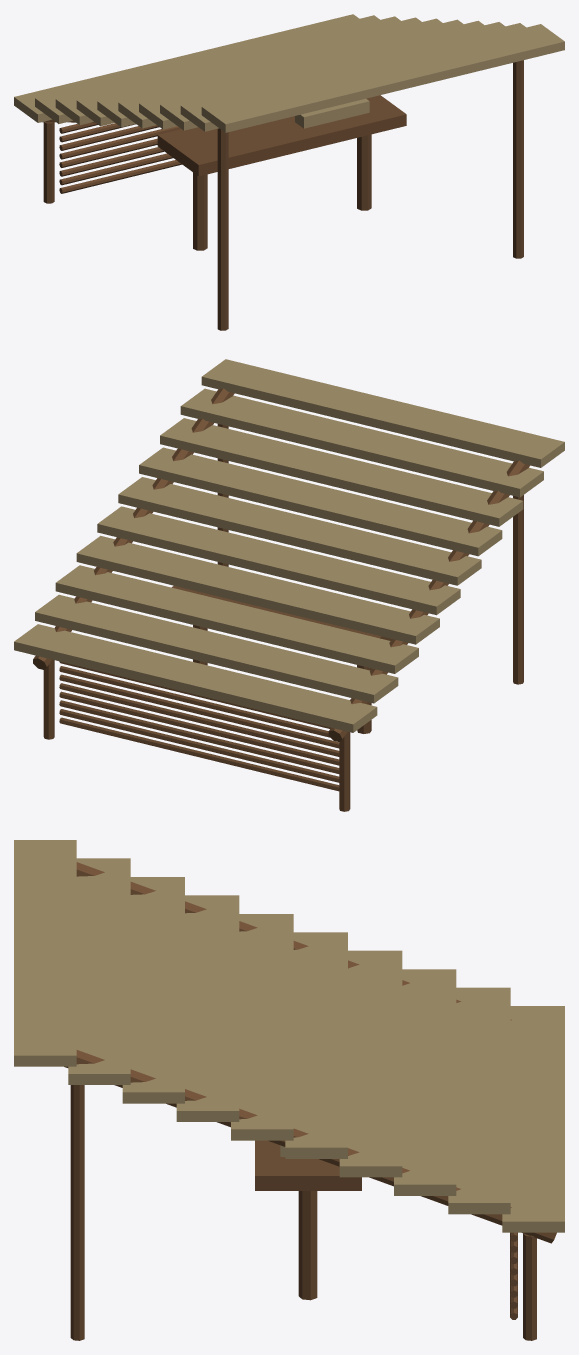
Rendered from covered_workshop.glb.
3 renders of one model, top to bottom at view 1: azimuth 30°, elevation 25°; view 2: azimuth 150°, elevation 25°; view 3: azimuth 270°, elevation 25°, orthographic. The views are drawn at different scales.
Visible parts, largest first — view 1: covered_workshop; view 2: covered_workshop; view 3: covered_workshop.
Boxes of the visible parts, bbox=[...] form: covered_workshop: bbox=[14, 14, 564, 330]; covered_workshop: bbox=[14, 359, 564, 811]; covered_workshop: bbox=[14, 840, 564, 1340].
Size of the model in its own units: 3.1 by 1.99 by 3.35.
